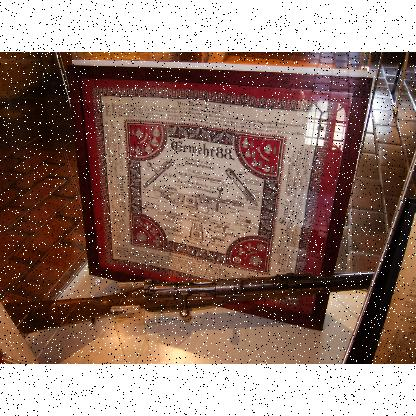gun: (2, 270, 380, 336)
